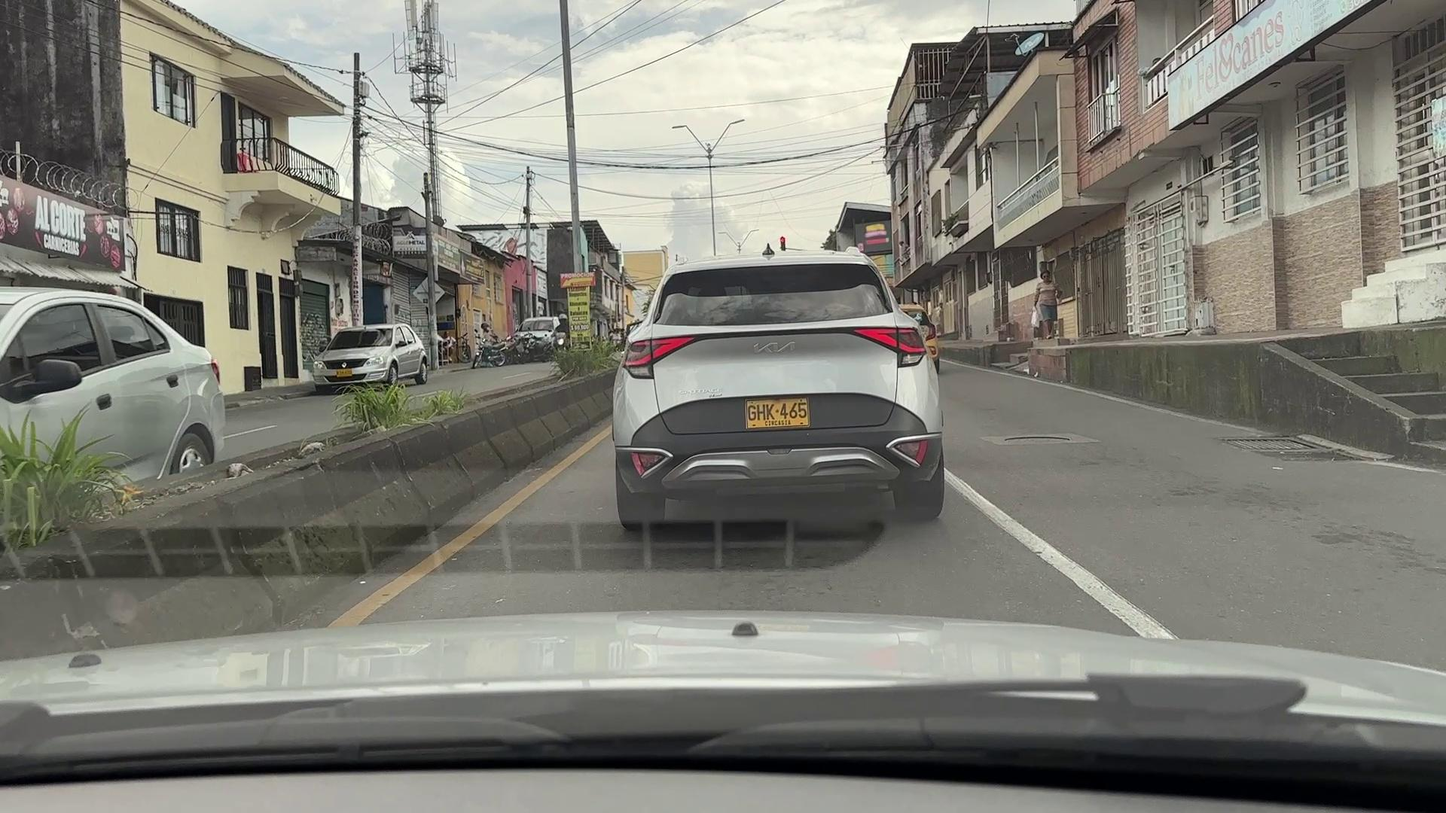registro: (1005, 436, 1070, 442)
rejilla: (1223, 436, 1376, 462)
